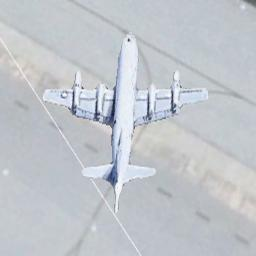Airplane: (42, 31, 208, 213)
